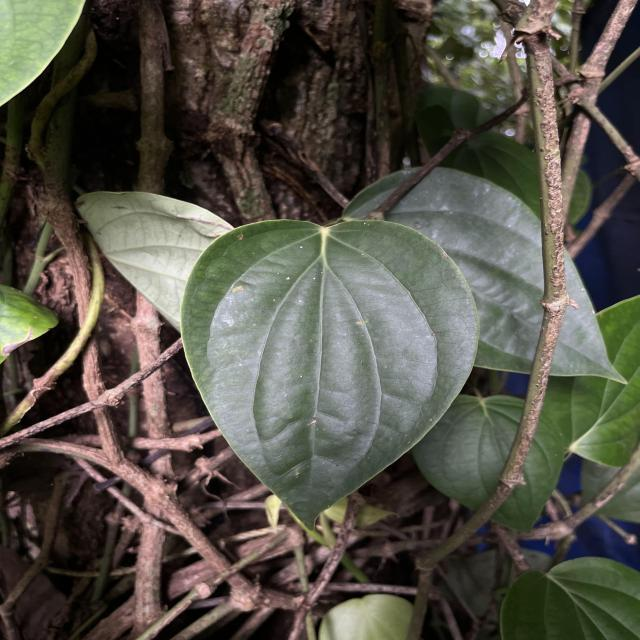Piper nigrum: (178, 216, 482, 534)
